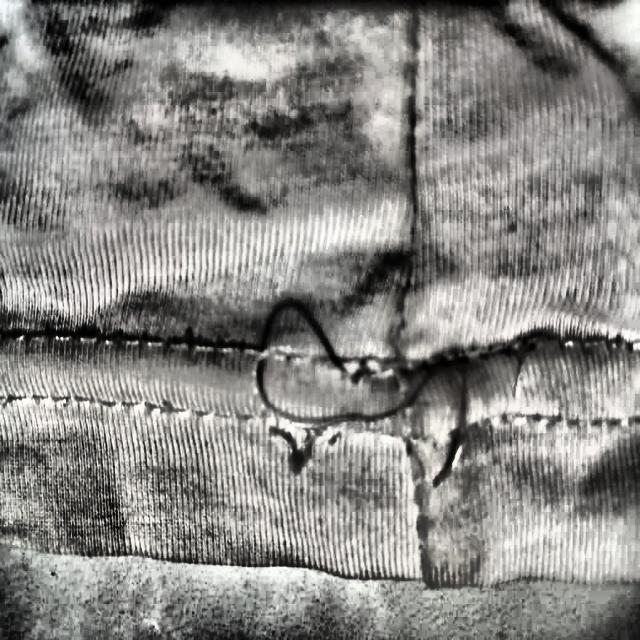gray stitch: (208, 233, 560, 506)
